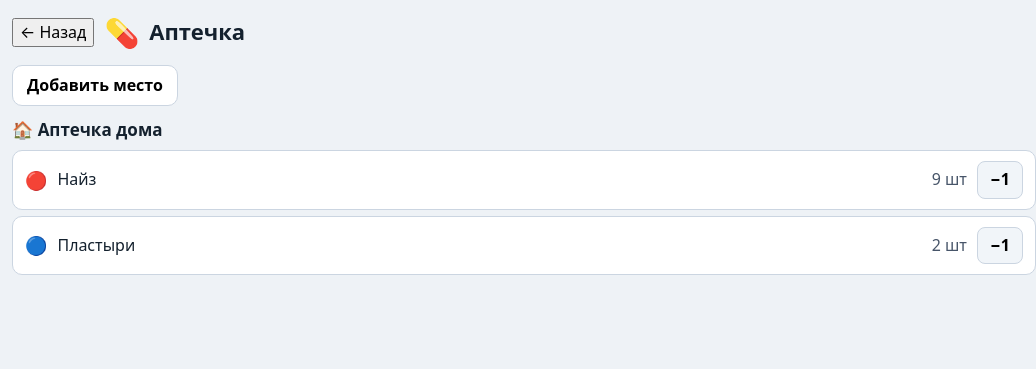
Test: TrackScreen › кнопка «Добавить место» (admin и member) создаёт место
Click the button "Добавить место". click: (95, 85)
box: 12,65 -> 178,106
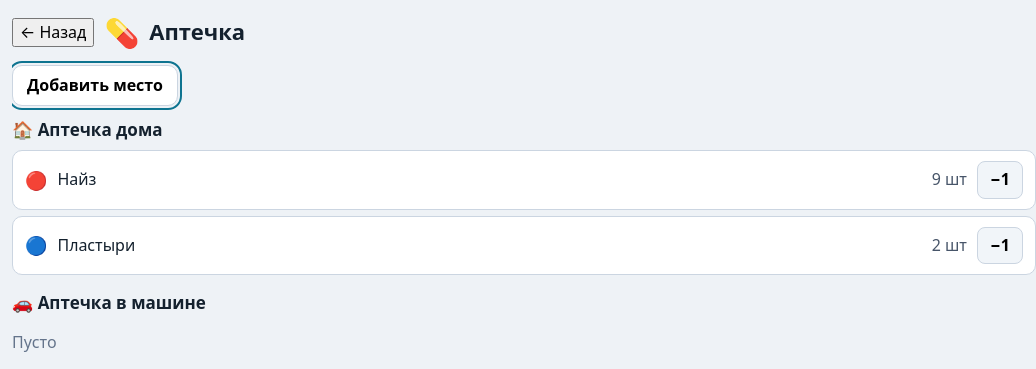
Expected: the heading "🚗 Аптечка в машине" is shown, 12,291 -> 206,314
